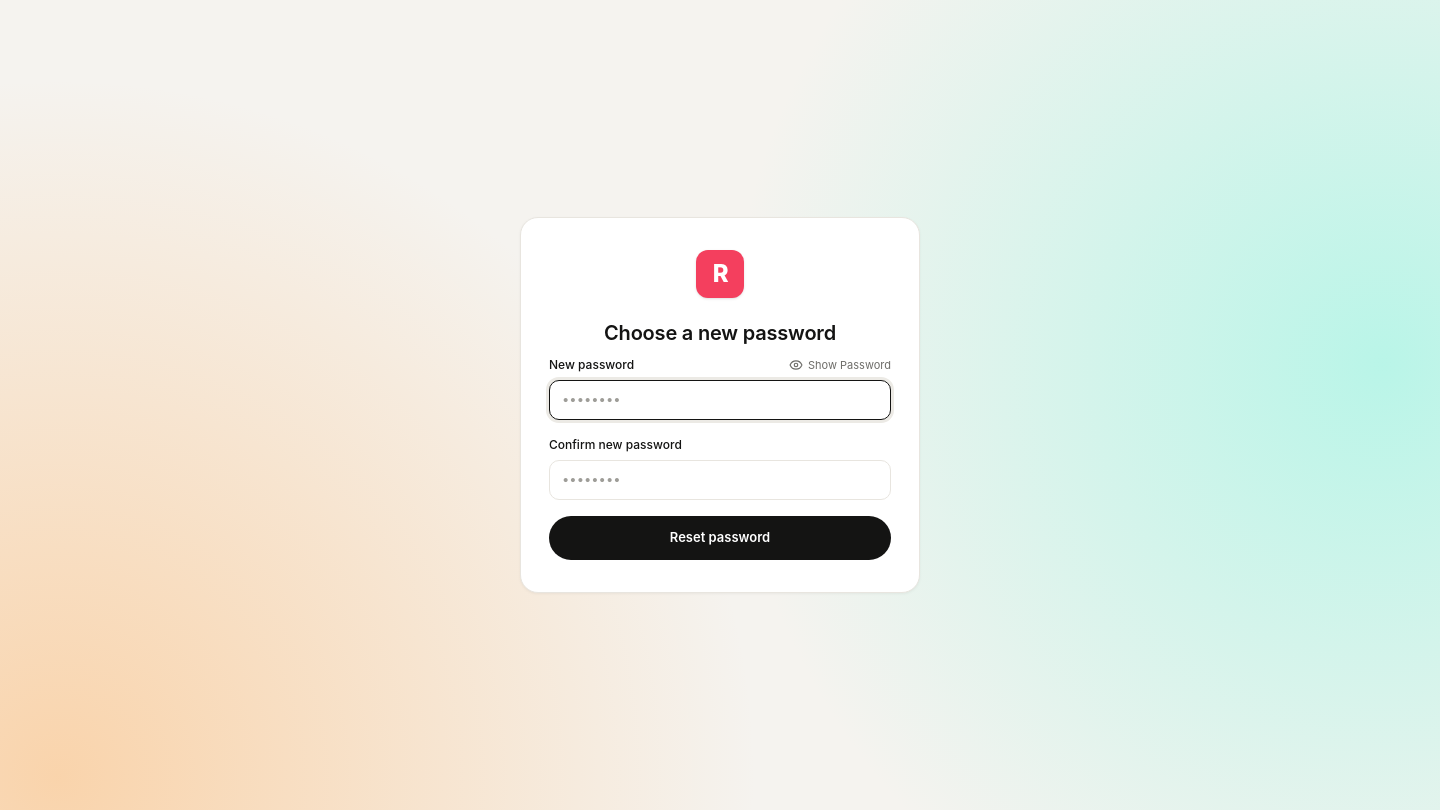
Scenario: ResetPassword page › shows the backend error on an invalid/expired token
In the password field labelled "New password": (720, 400) [549,380,891,420], type "newpassword1"
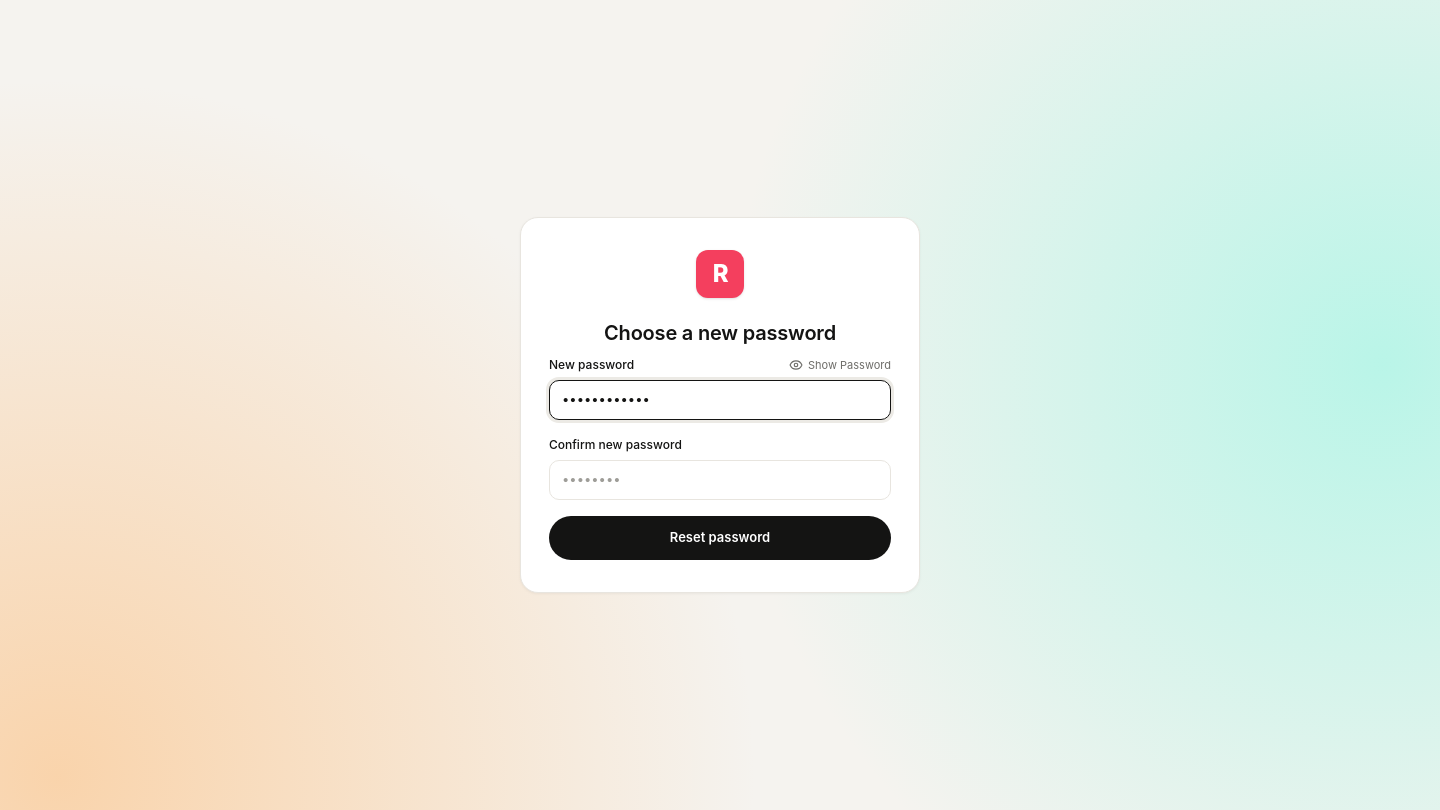
In the password field labelled "Confirm new password": (720, 480) [549,460,891,500], type "newpassword1"
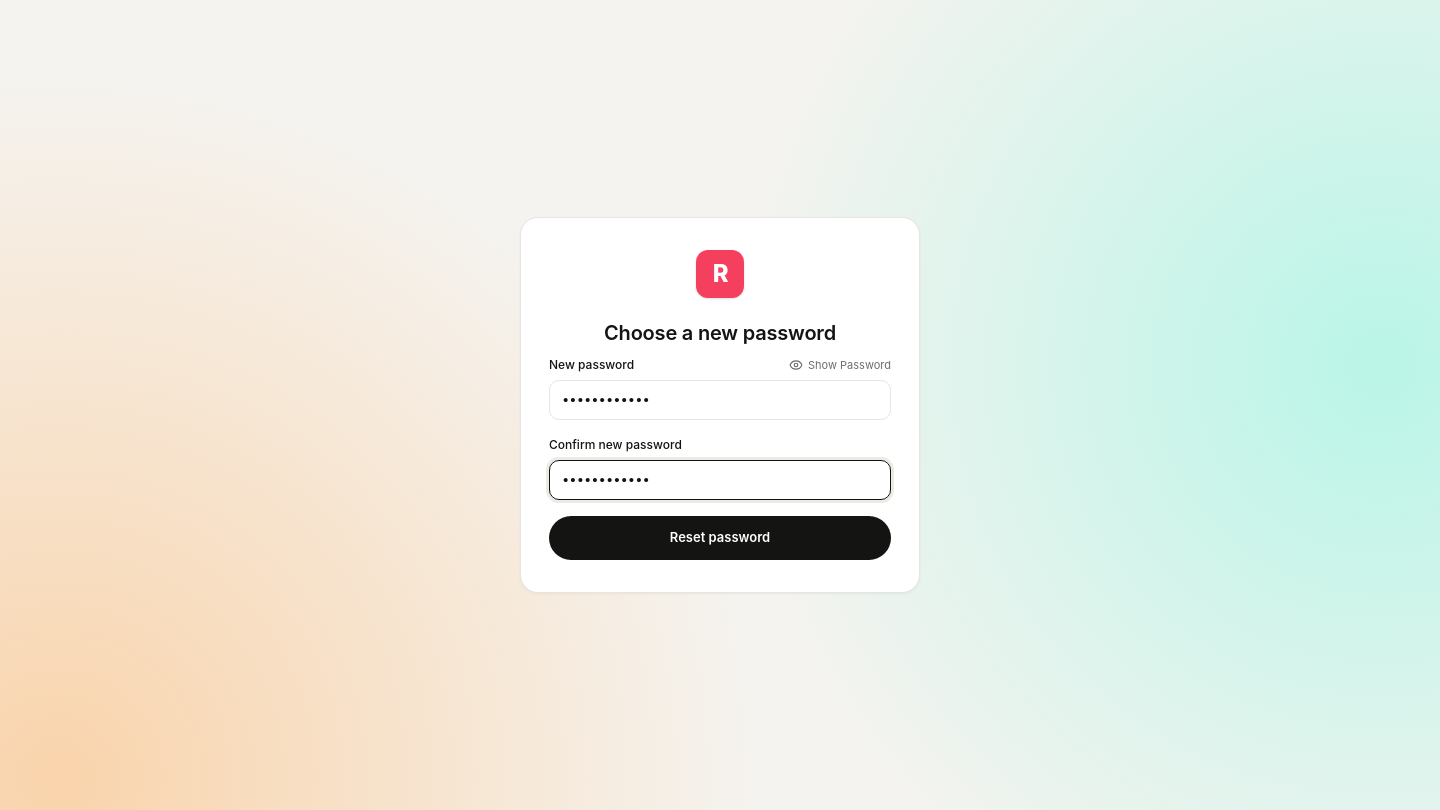
Click the button "Reset password": (720, 538) [549,516,891,560]
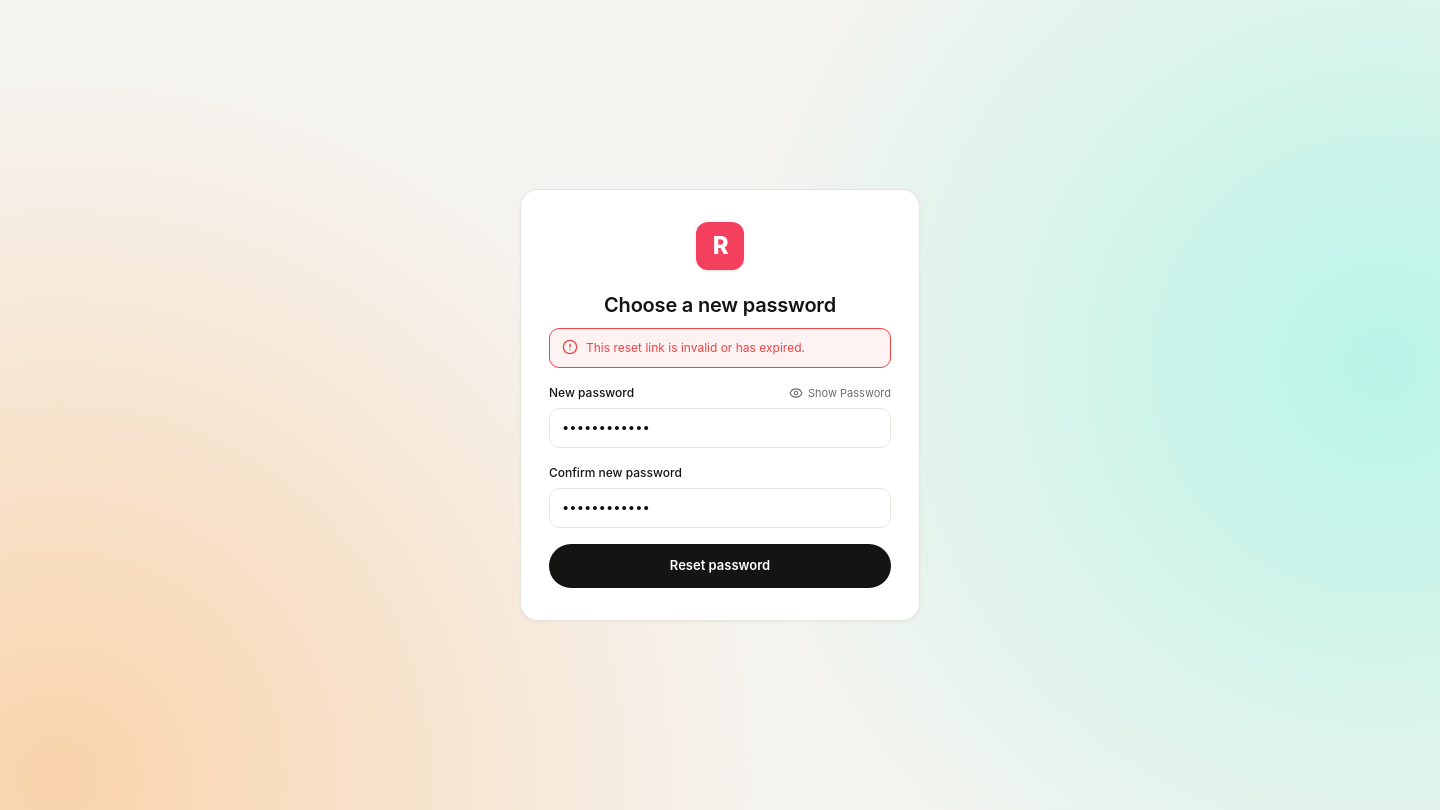
Result: the text "This reset link is invalid or has expired." is shown at [549,328,891,368]
